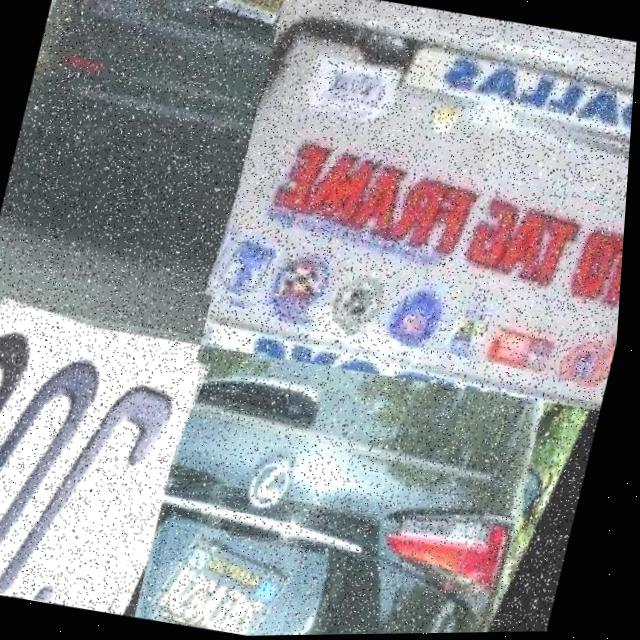LicensePlate: (203, 62, 636, 388), (0, 297, 213, 620), (154, 520, 312, 638), (209, 0, 287, 38)
